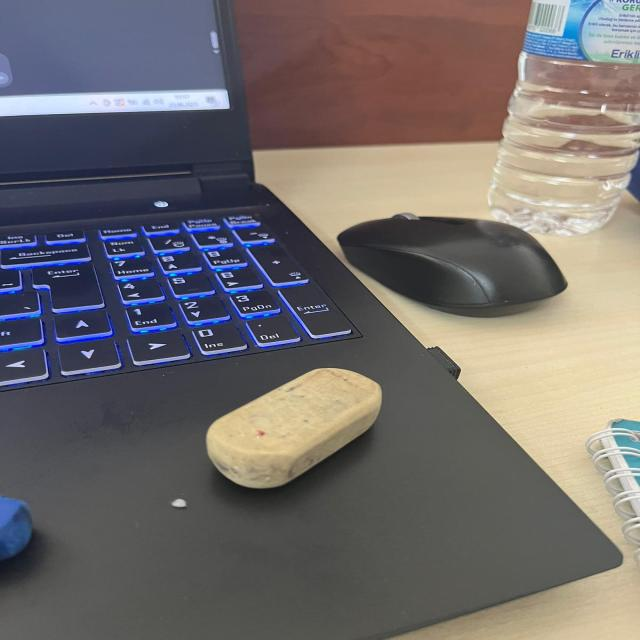eraser: (200, 358, 396, 495), (0, 489, 50, 571)
